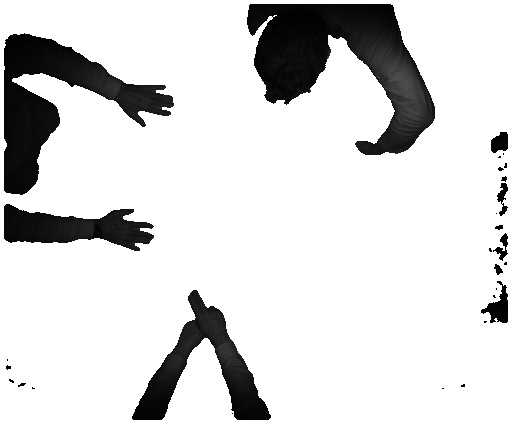fist: (352, 140, 383, 159)
hand: (103, 208, 159, 255), (189, 288, 239, 339), (123, 80, 175, 127)
